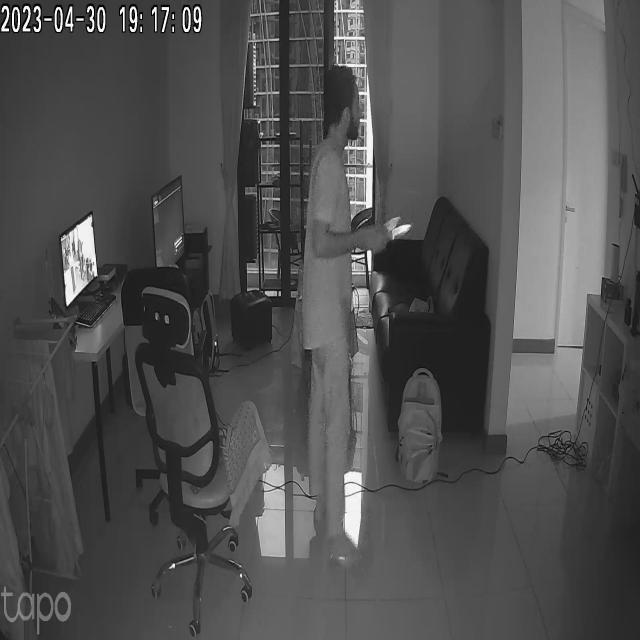Knife: (377, 215, 418, 244)
